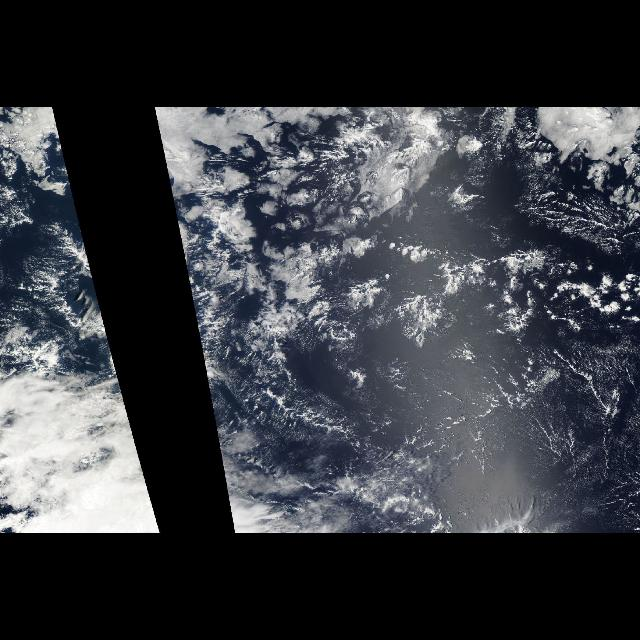Fish: (207, 344, 375, 462)
Gravel: (244, 292, 602, 470)
Sugar: (426, 326, 638, 532)
